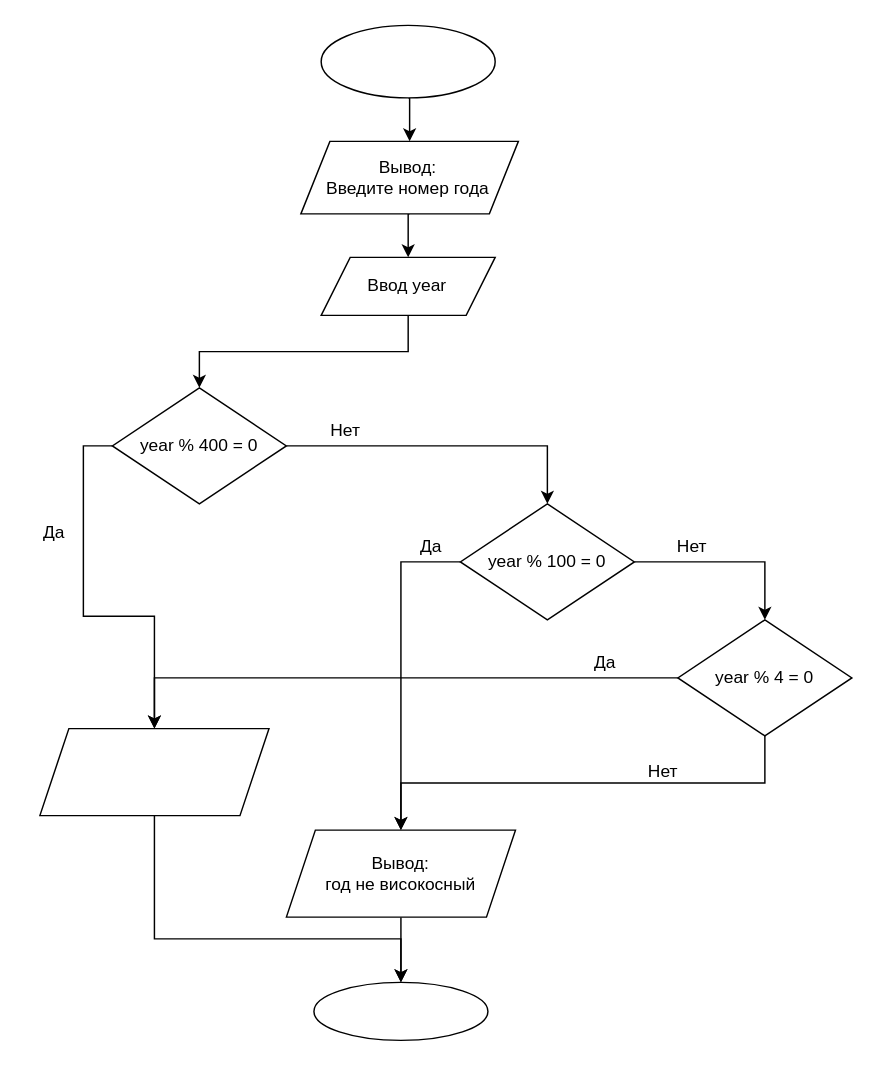
Some shapes in this 877 by 1066 pixel diagram are drawn without their labels. The box of each missing label's shape, as (x1, y1, x2, y2) in pixels:
Вывод: год високосный: (38, 727, 269, 816)
конец: (312, 981, 488, 1040)
начало: (320, 24, 495, 98)
